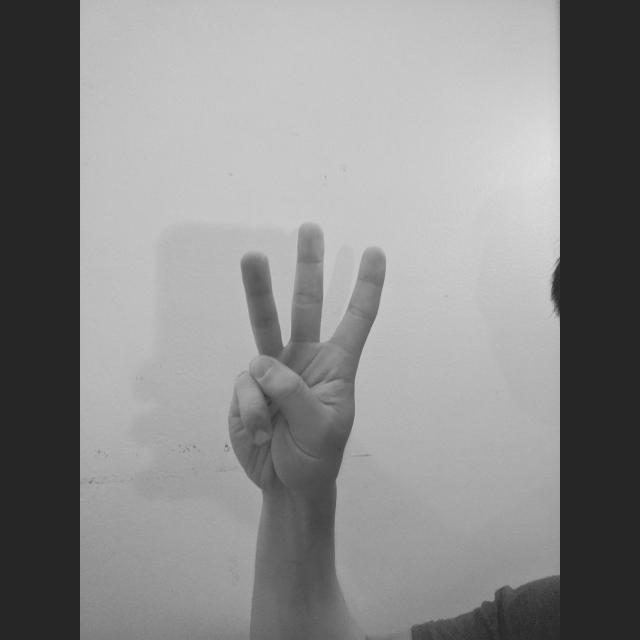W: (225, 217, 391, 496)
